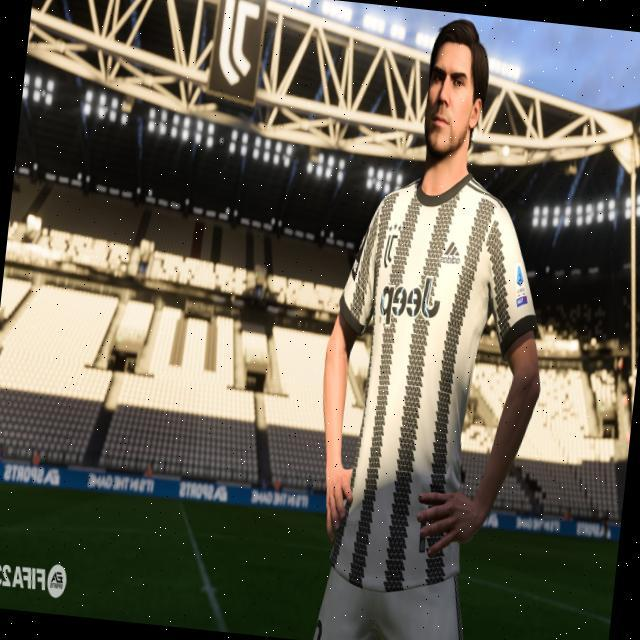Adidas: (438, 235, 464, 270)
